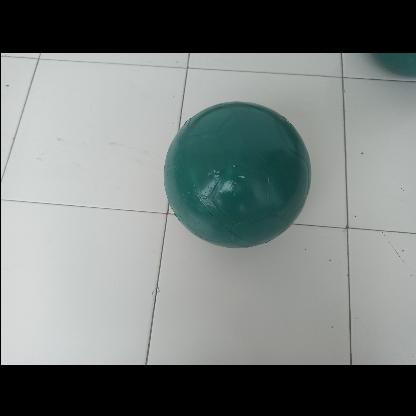green_ball: (162, 96, 312, 245)
